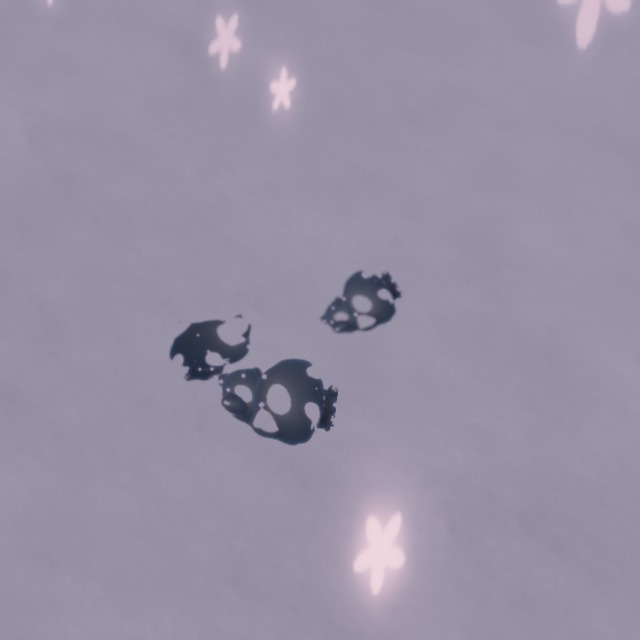urso_preto: (202, 340, 343, 454), (147, 295, 275, 399), (302, 252, 413, 359)
